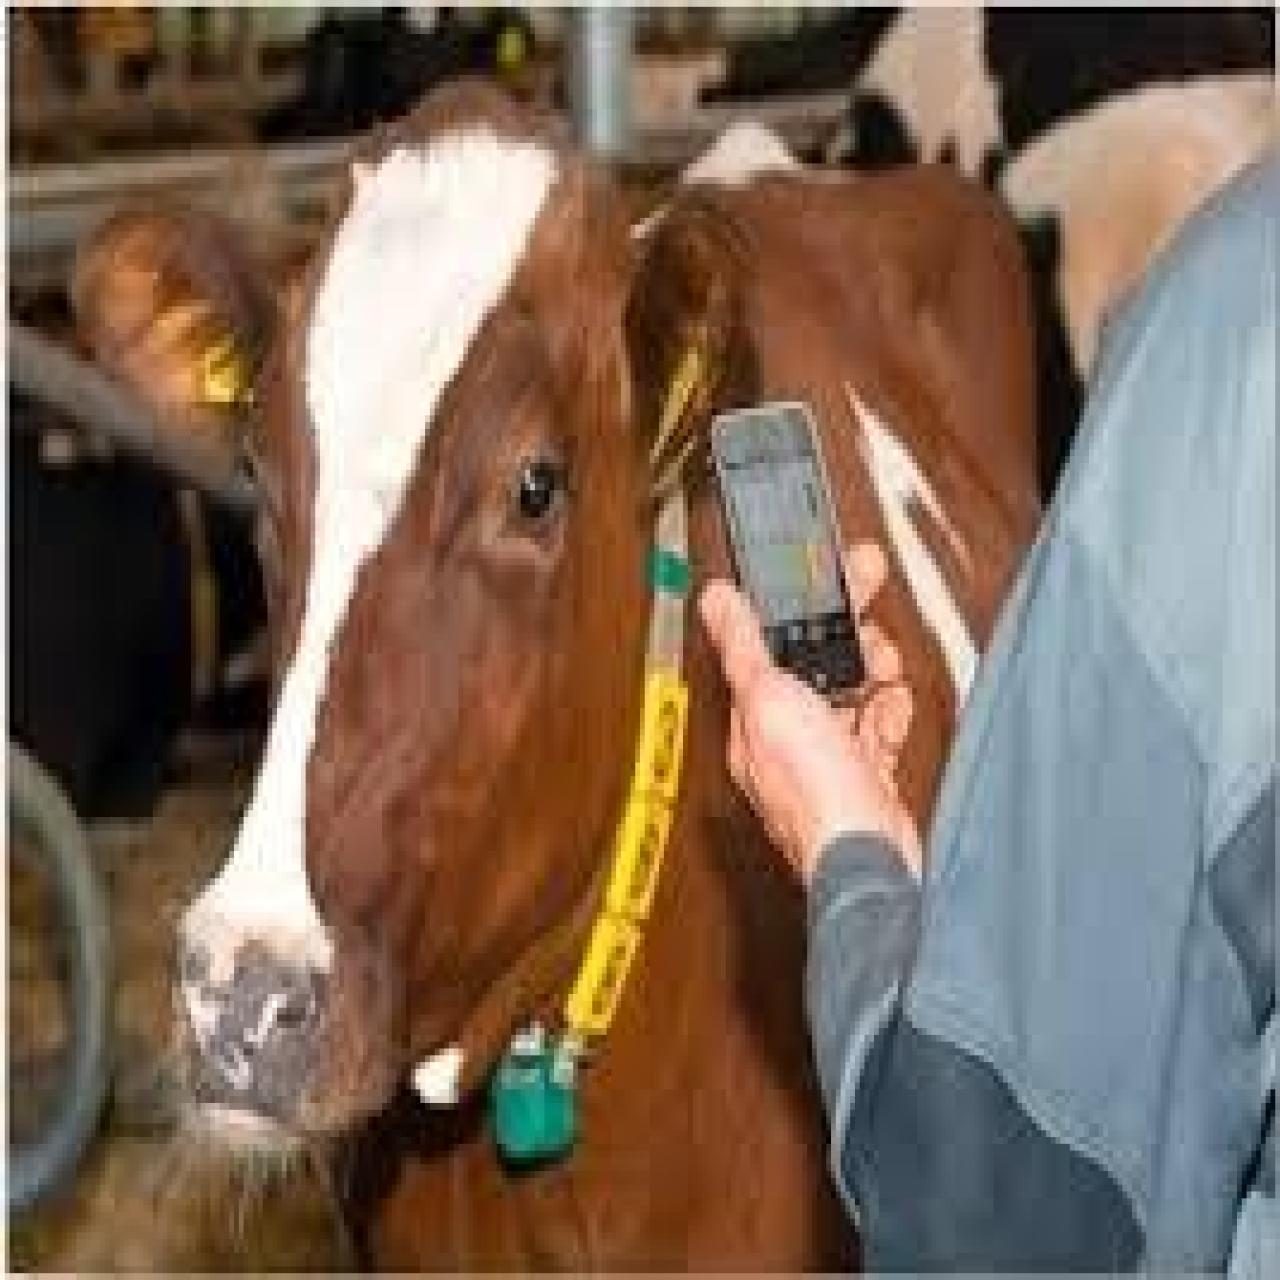cow: (69, 75, 1044, 1273)
